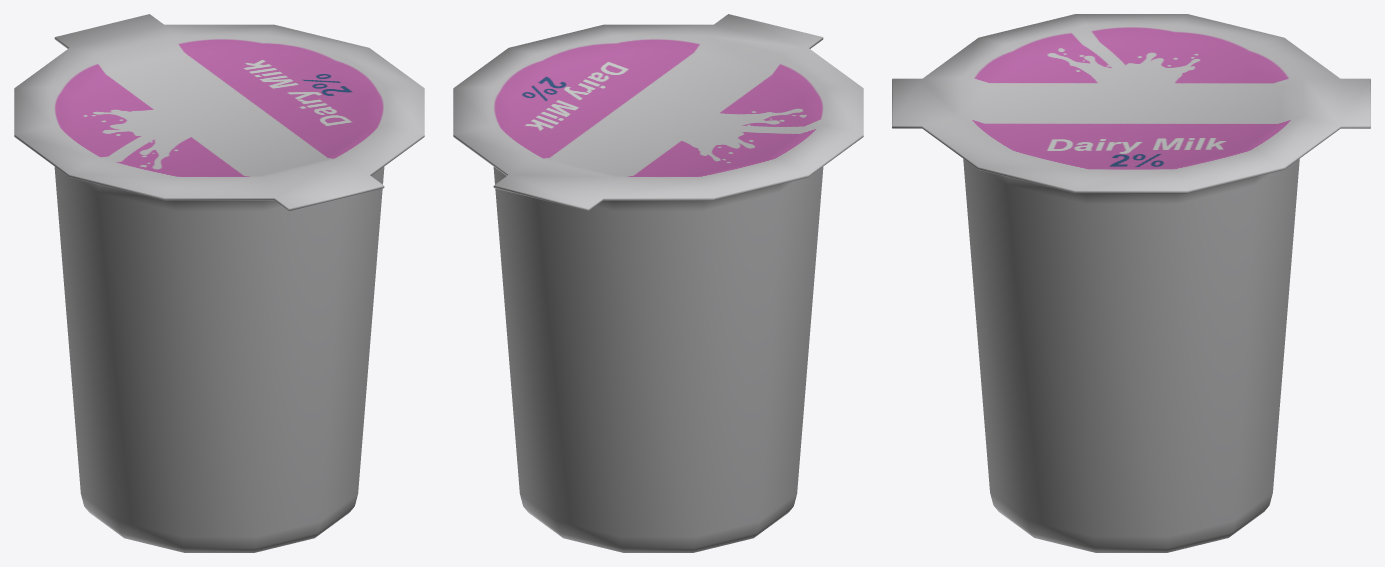
Rendered from Creamer_milk_Final_1_50.fbx.
3 renders of one model, left to right at view 1: azimuth 30°, elevation 25°; view 2: azimuth 150°, elevation 25°; view 3: azimuth 270°, elevation 25°, orthographic. The views are drawn at different scales.
Visible parts, largest first — view 1: Mini_Creamer_FINAL_1:50; view 2: Mini_Creamer_FINAL_1:50; view 3: Mini_Creamer_FINAL_1:50.
Boxes of the visible parts, left/top/right/bottom form: Mini_Creamer_FINAL_1:50: left=14, top=14, right=424, bottom=552; Mini_Creamer_FINAL_1:50: left=453, top=14, right=863, bottom=552; Mini_Creamer_FINAL_1:50: left=892, top=14, right=1370, bottom=552.
Bounding box in the file's own units: 0.07 × 0.0739 × 0.08.
